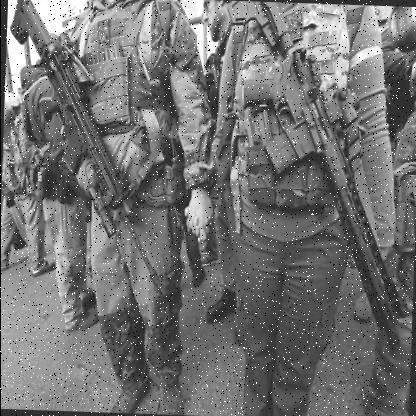rifle: (215, 7, 415, 347), (0, 3, 176, 296)
